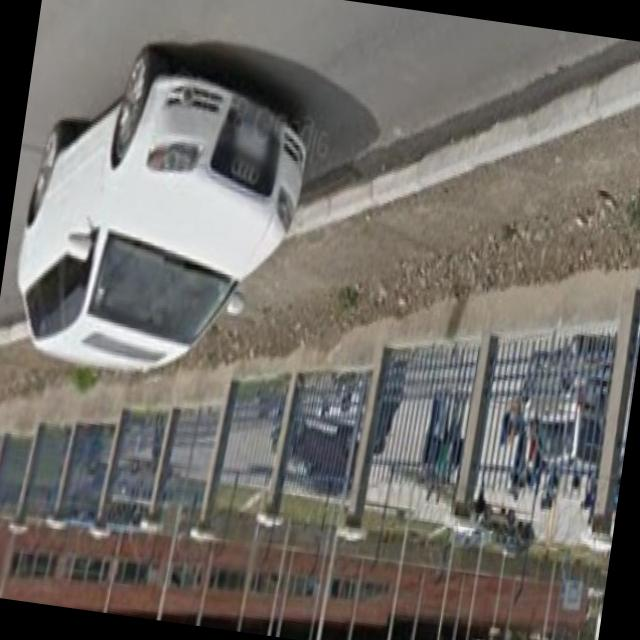car: (11, 39, 322, 384)
